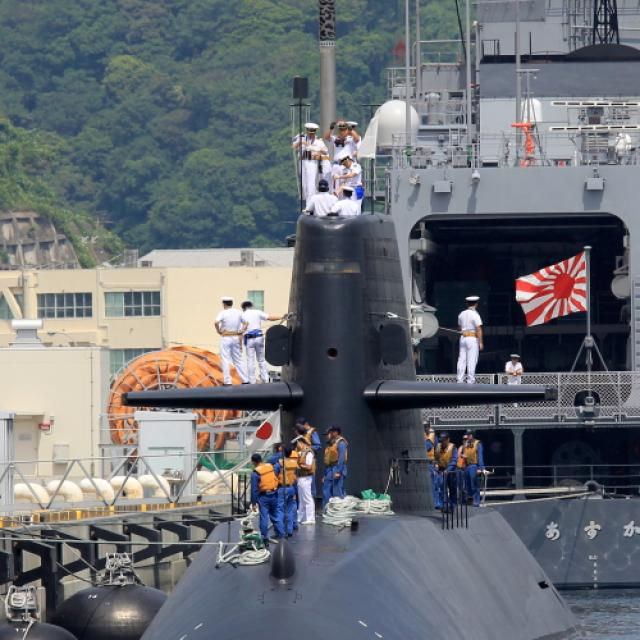submarine: (113, 204, 577, 640)
